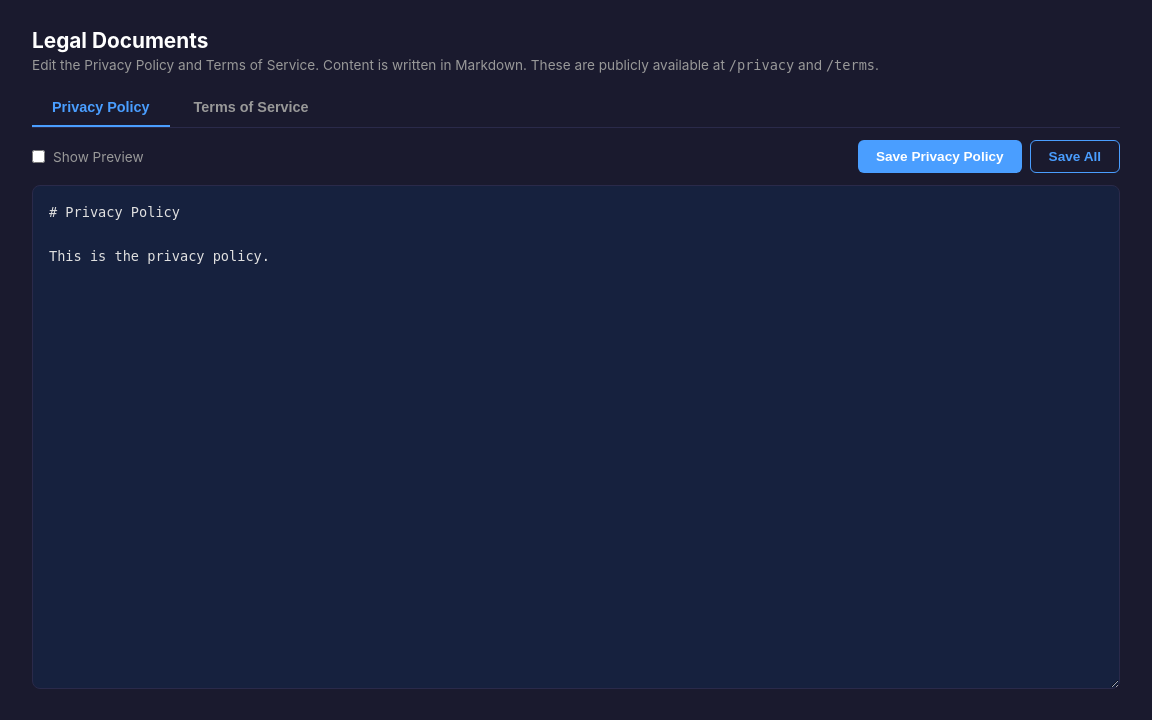
Test: AdminLegalPage › shows error message when save fails
Click the button with test id "legal-save-btn".
click(940, 156)  # box x1=858 y1=140 x2=1022 y2=173
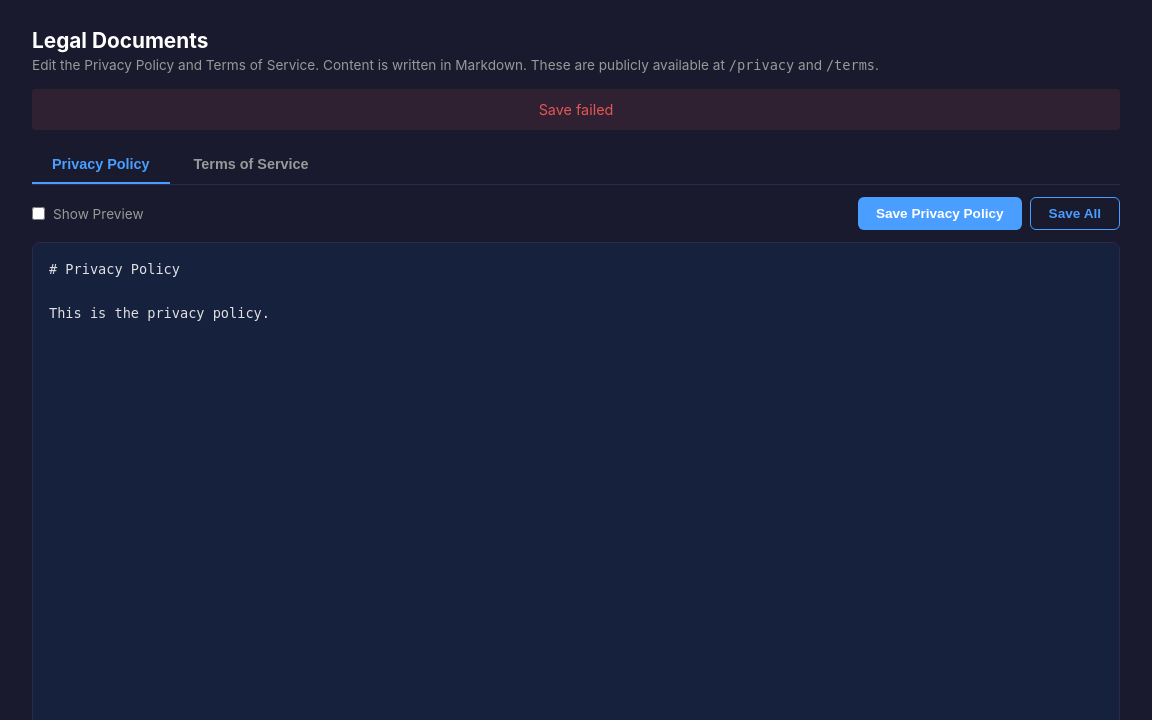
Expected: the text "Save failed" is shown, x1=32 y1=89 x2=1120 y2=130
